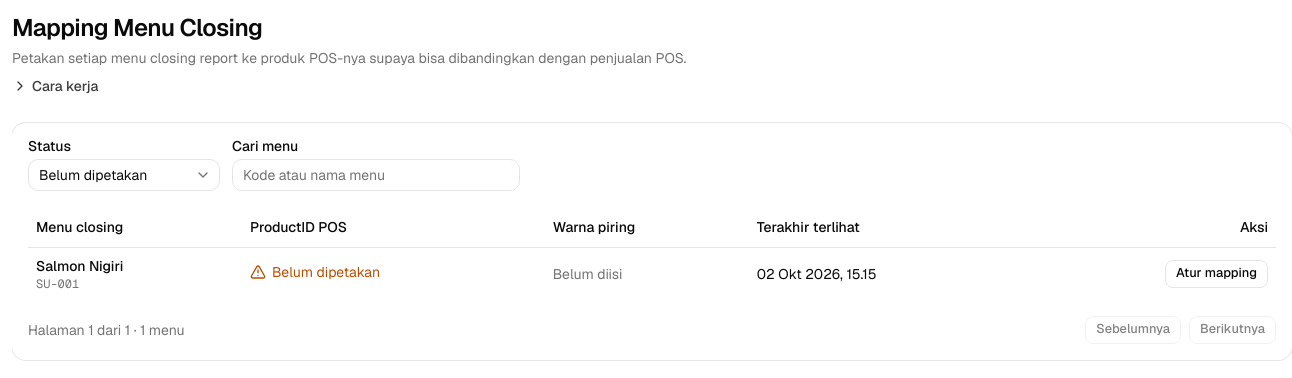
Test: ClosingMenusView — daftar › filter tidak ada di POS menampilkan menu bertanda
The image size is (1292, 378).
Expected: the text "Salmon Nigiri" is shown, top-left (36, 256), bottom-right (123, 274)
Expected: the text "Piring Kosong" is not shown
Click the dropdown named "status".
click(124, 175)  # box top-left (28, 159), bottom-right (220, 191)
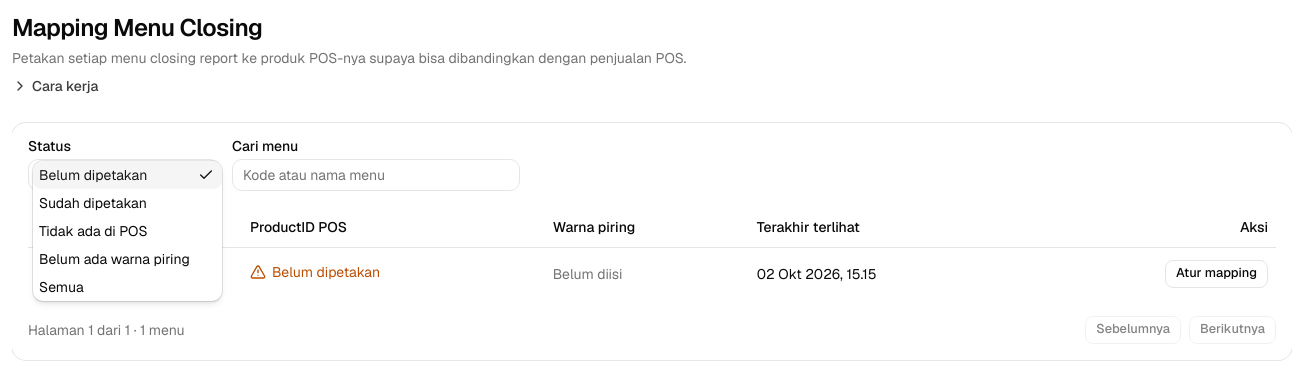
Click the option "Tidak ada di POS".
click(93, 231)  # box top-left (39, 222), bottom-right (147, 240)
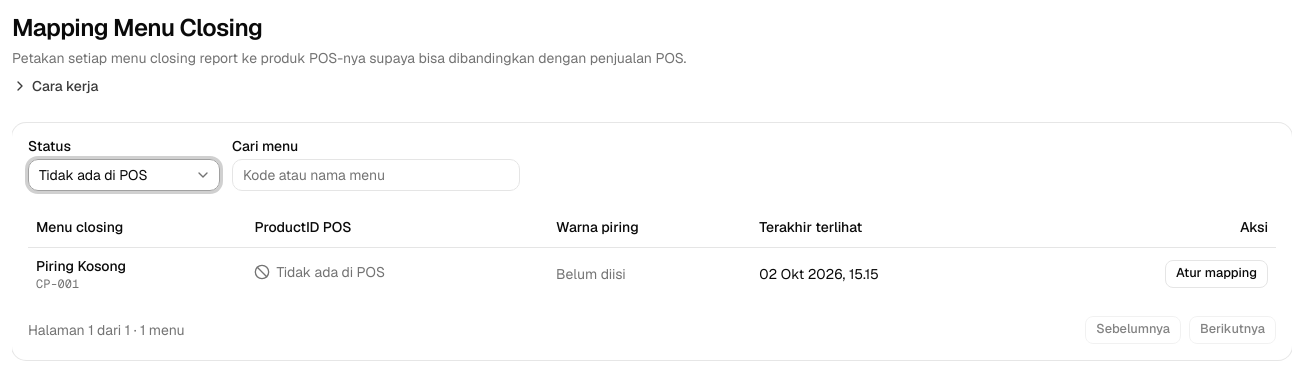
Expected: the text "Tidak ada di POS" is shown, top-left (254, 262), bottom-right (385, 282)
Expected: the text "Salmon Nigiri" is gone
